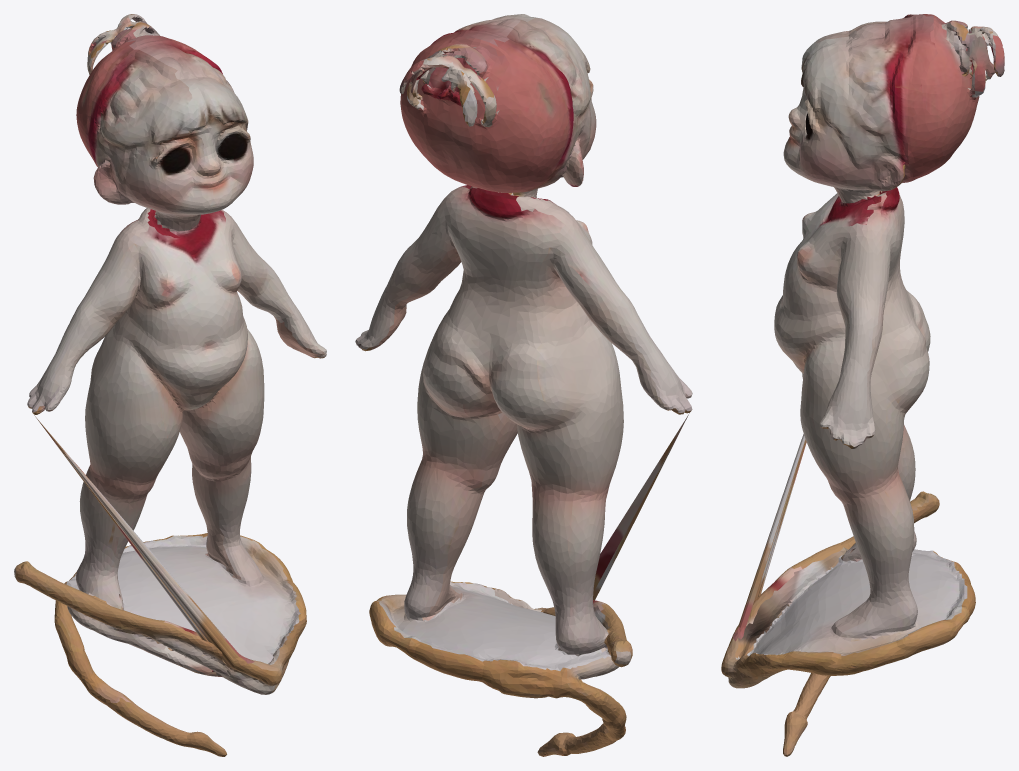
File: garak_creepy5.glb
The picture shows the model from 3 angles, left to right: view 1: azimuth 30°, elevation 25°; view 2: azimuth 150°, elevation 25°; view 3: azimuth 270°, elevation 25°; orthographic projection. The views are drawn at different scales.
Visible parts, largest first — view 1: creepy5.obj; view 2: creepy5.obj; view 3: creepy5.obj.
Part boxes in pixels (box(x1,y1,x2,y2)): creepy5.obj: box(14, 14, 326, 756); creepy5.obj: box(355, 14, 692, 756); creepy5.obj: box(721, 14, 1004, 756).
Size of the model in its own units: 0.8873 by 1.97 by 0.6938.
Materials: 1 (1 with a texture image).
